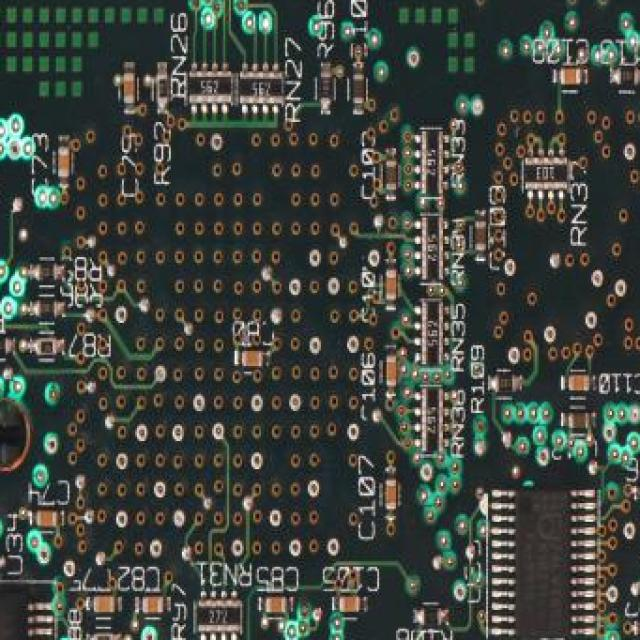IC: (512, 484, 572, 640)
capacitor: (240, 347, 265, 371), (56, 145, 72, 181), (92, 591, 116, 615), (353, 69, 368, 107), (122, 69, 137, 106), (141, 593, 165, 616), (567, 409, 591, 432), (559, 66, 584, 88), (385, 353, 400, 389), (567, 372, 591, 394), (34, 507, 59, 528), (385, 158, 400, 193), (263, 595, 288, 616), (473, 218, 488, 252), (338, 593, 361, 615), (385, 477, 399, 513), (385, 267, 399, 302)
resistor: (238, 69, 286, 107), (420, 298, 446, 367), (420, 387, 446, 455), (418, 128, 444, 196), (420, 214, 446, 282), (186, 68, 233, 105), (524, 156, 570, 193), (195, 597, 241, 634), (319, 69, 335, 106), (34, 298, 59, 321), (615, 65, 640, 88), (494, 372, 517, 396), (34, 261, 59, 283), (156, 71, 171, 107), (36, 336, 60, 357), (0, 335, 9, 358)
